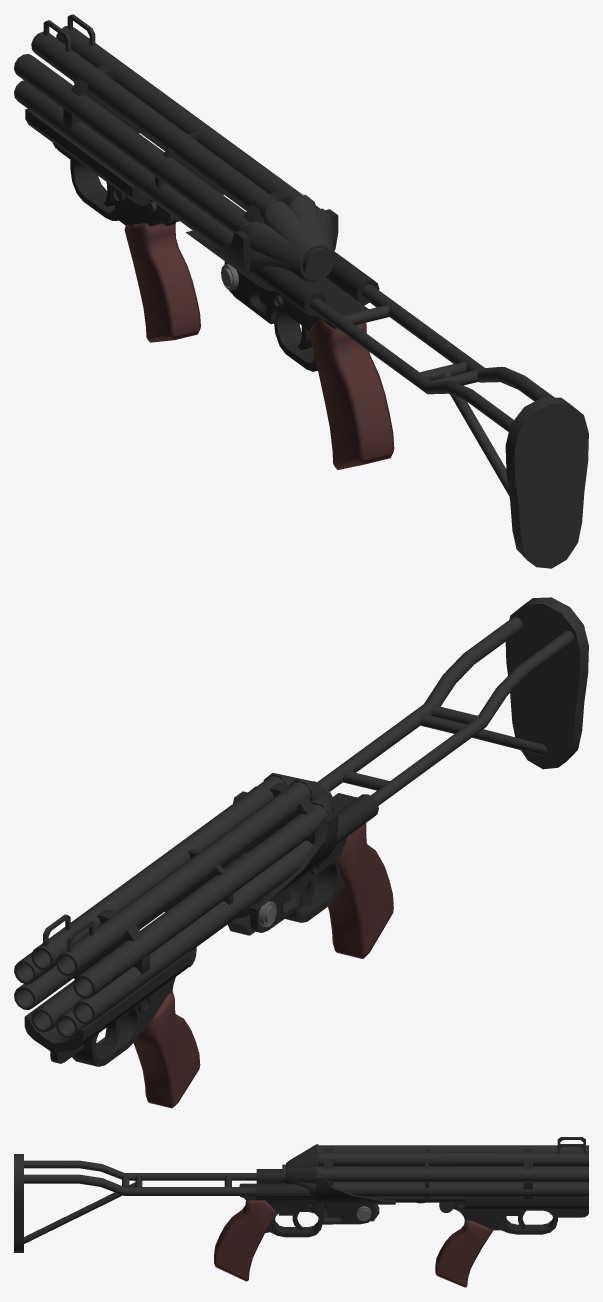
Rendered from Shotgun.fbx.
3 views of the same model, one above another, from view 1: azimuth 30°, elevation 25°; view 2: azimuth 150°, elevation 25°; view 3: azimuth 270°, elevation 25° (orthographic). The views are drawn at different scales.
Parts seen in each view (by area): view 1: pCube37; view 2: pCube37; view 3: pCube37.
Part boxes in pixels (x1,y1,x2,y2): pCube37: [14, 14, 588, 568]; pCube37: [14, 597, 588, 1108]; pCube37: [14, 1137, 588, 1287].
Size of the model in its own units: 32.68 by 81.42 by 296.
